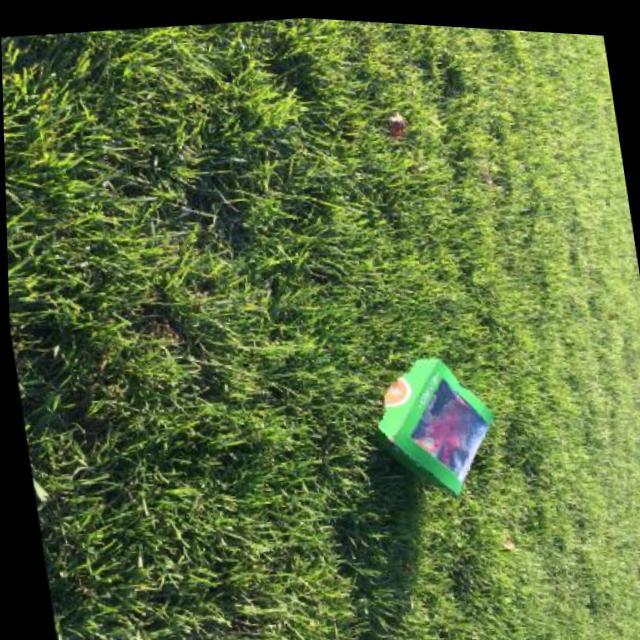cardboard: (358, 347, 505, 509)
